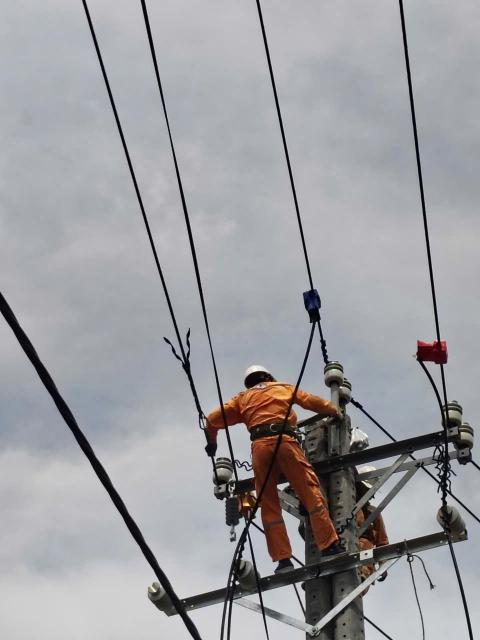gloves: (198, 434, 229, 465), (377, 558, 399, 587), (331, 399, 349, 433)
helmet: (341, 462, 393, 497), (242, 365, 283, 391)
shoes: (262, 546, 306, 585), (307, 532, 358, 563)
